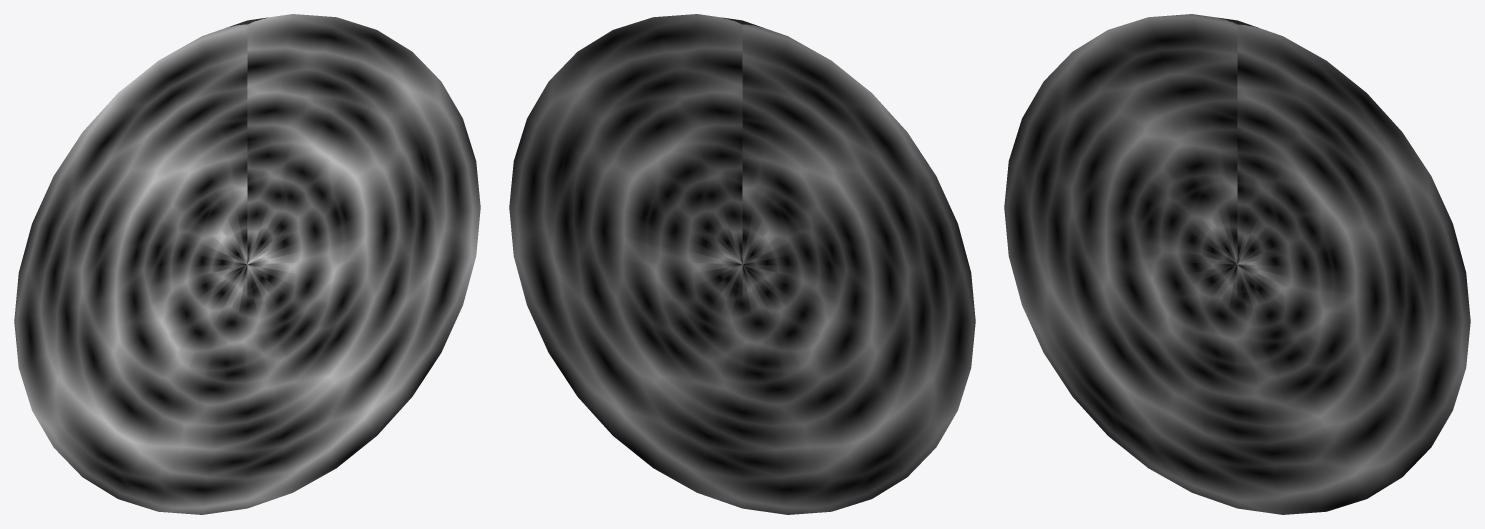
Rendered from CircleWater01.fbx.
3 views of the same model, side by side, from view 1: azimuth 30°, elevation 25°; view 2: azimuth 150°, elevation 25°; view 3: azimuth 330°, elevation 25° (orthographic).
Visible parts, largest first — view 1: Cylinder; view 2: Cylinder; view 3: Cylinder.
Part boxes in pixels (left/top/right/bottom): Cylinder: left=14, top=14, right=480, bottom=514; Cylinder: left=509, top=14, right=975, bottom=514; Cylinder: left=1004, top=14, right=1470, bottom=514.
Bounding box in the file's own units: 200 × 200 × 0.00118.
